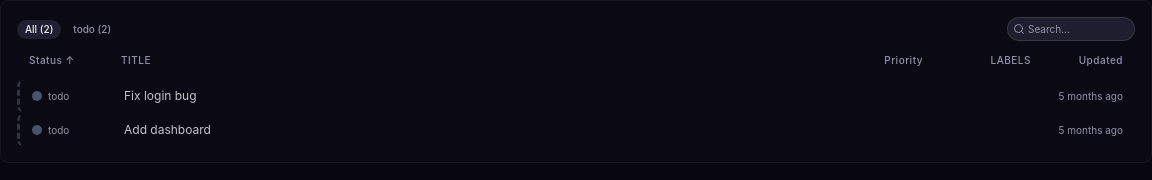
TicketListView › search › filters tickets by search query
Type "login" into the field with placeholder "Search..." at (1071,29), box x1=1007 y1=17 x2=1135 y2=41
Wait 300 ms
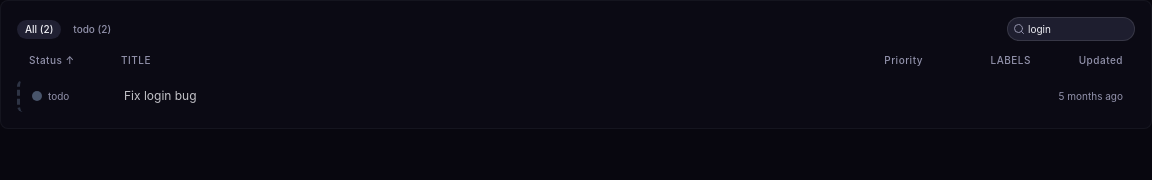
Expected: the text "Fix login bug" is shown, x1=124 y1=88 x2=197 y2=104
Result: the button "Add dashboard" is gone
